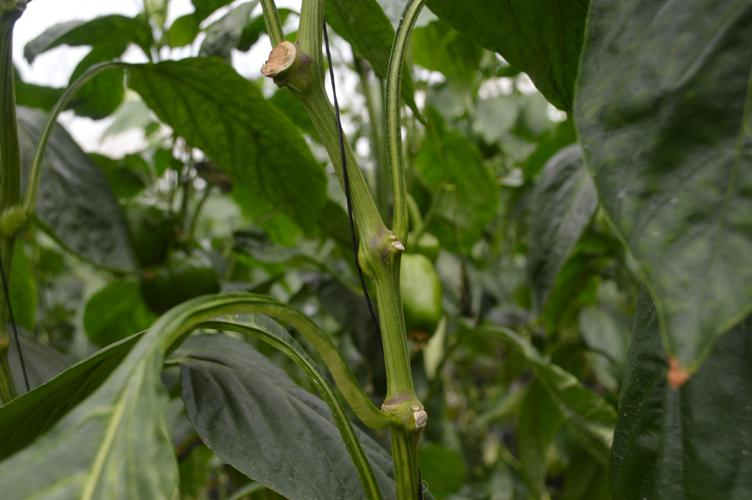BellPepper: (141, 257, 224, 304), (398, 259, 444, 334), (113, 201, 168, 261), (407, 230, 445, 265)
